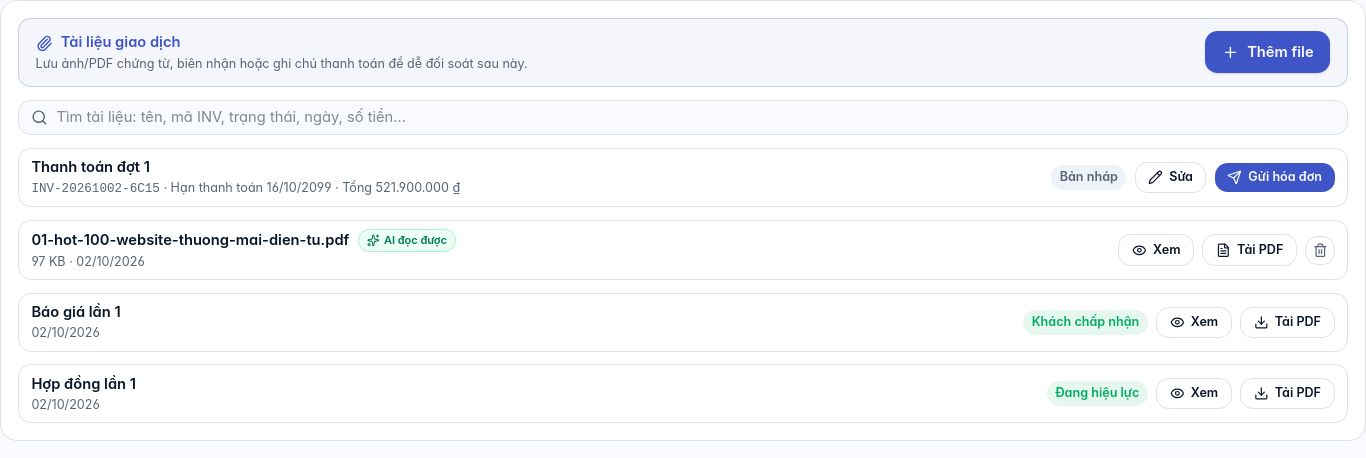
Test case: thanh tìm kiếm trong tab Tài liệu › gõ không dấu vẫn tìm ra báo giá và hợp đồng
The image size is (1366, 458).
Type "bao gia" into the field labelled "Tìm tài liệu". click: [696, 117]
box: left=57, top=107, right=1335, bottom=128
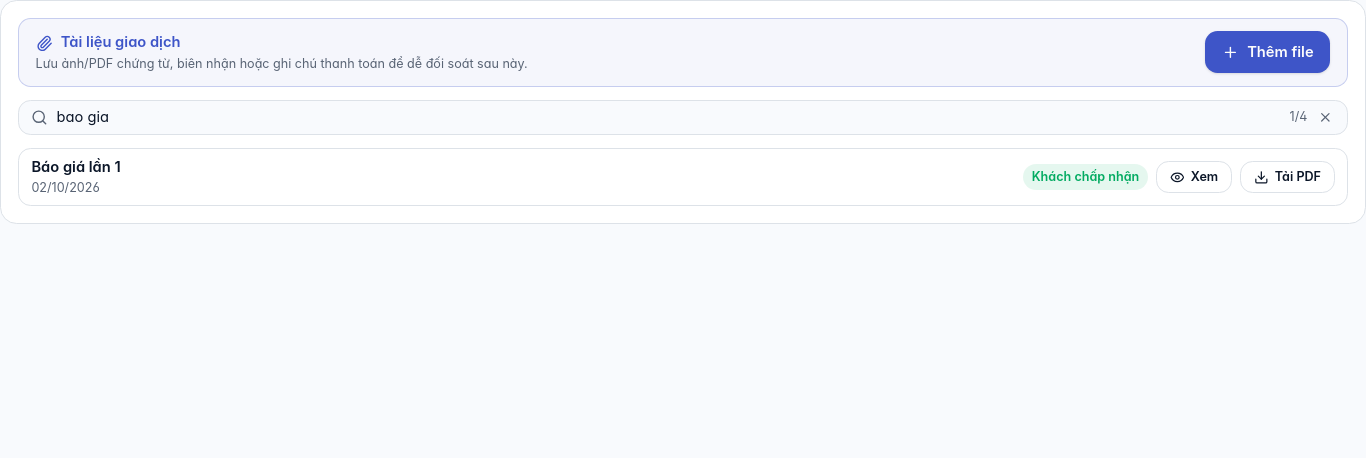
Expected: the text "Báo giá lần 1" is shown, left=31, top=157, right=121, bottom=178
Now the text "Hợp đồng lần 1" is gone
Clear the field named "Tìm tài liệu". click: [669, 117]
box: left=57, top=107, right=1281, bottom=128
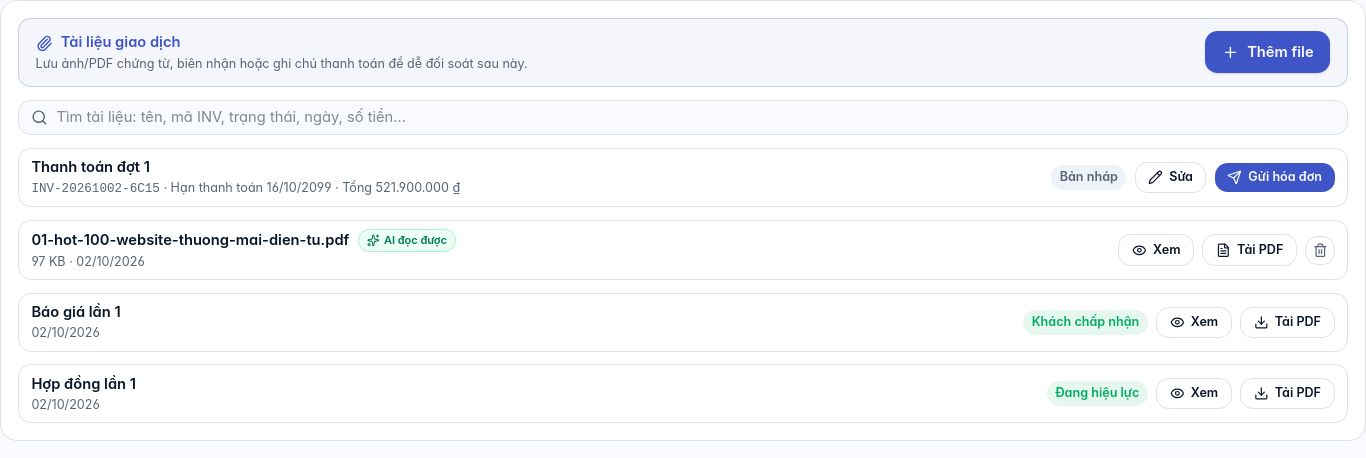
Type "hop dong" into the field labelled "Tìm tài liệu". click: [696, 117]
box: left=57, top=107, right=1335, bottom=128
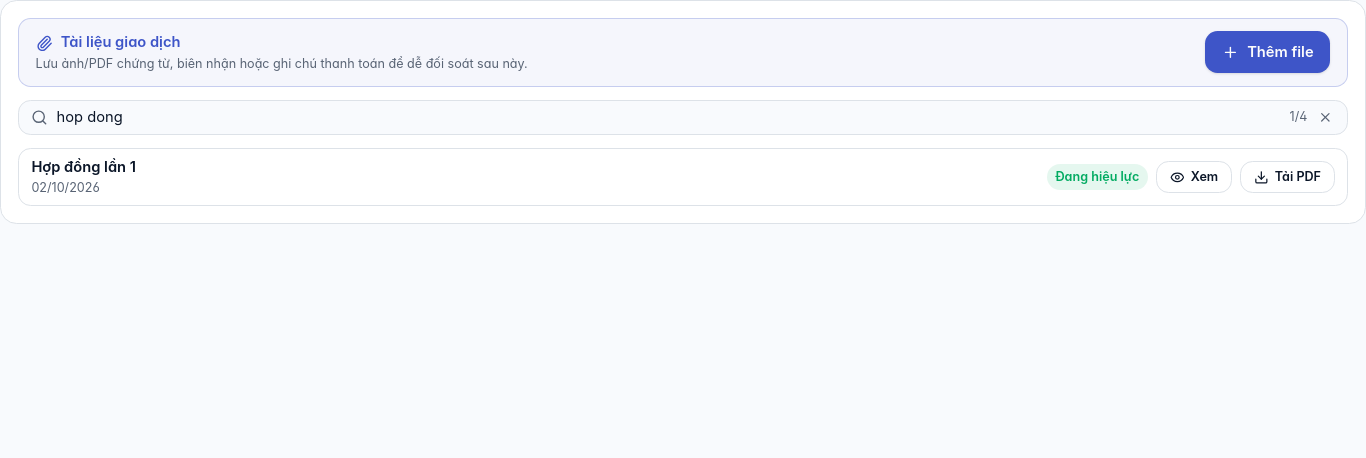
Now the text "Hợp đồng lần 1" is shown, box left=31, top=157, right=136, bottom=178
Now the text "Báo giá lần 1" is gone
